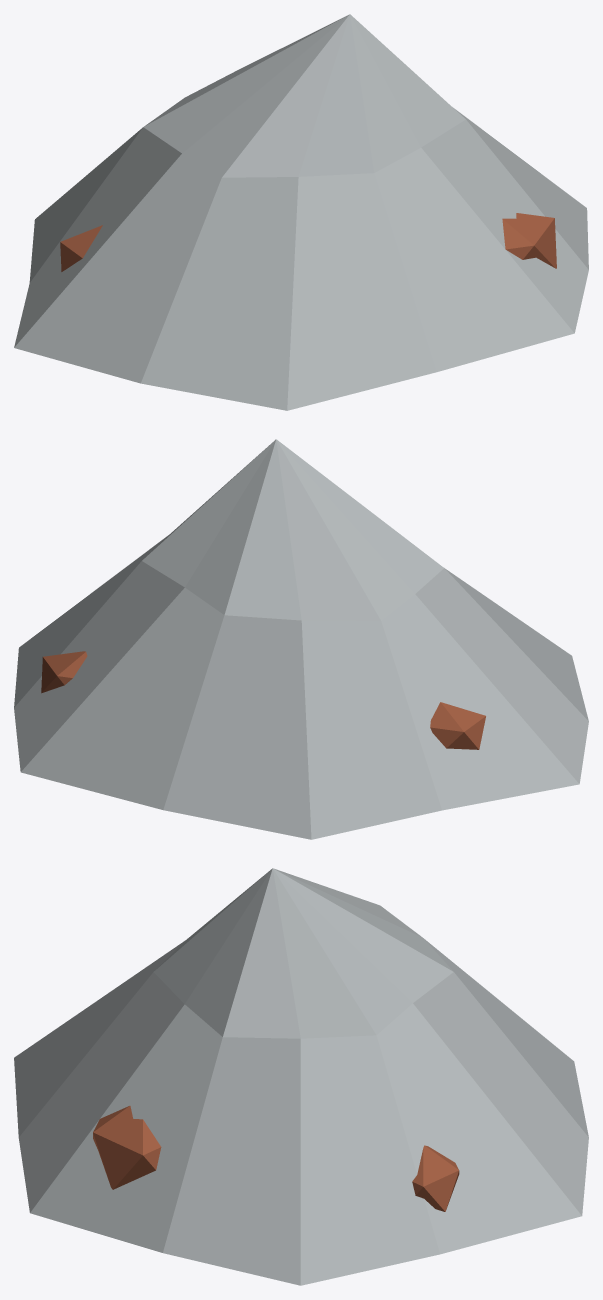
Rendered from spoil-heap.glb.
3 views of the same model, one above another, from view 1: azimuth 30°, elevation 25°; view 2: azimuth 150°, elevation 25°; view 3: azimuth 270°, elevation 25° (orthographic). The views are drawn at different scales.
Visible parts, largest first — view 1: spoil-heap-body, spoil-rock-02, spoil-rock-01; view 2: spoil-heap-body, spoil-rock-01, spoil-rock-03; view 3: spoil-heap-body, spoil-rock-02, spoil-rock-03.
Boxes of the visible parts, bbox=[...] form: spoil-heap-body: bbox=[14, 14, 588, 410]; spoil-rock-02: bbox=[502, 213, 556, 268]; spoil-rock-01: bbox=[60, 225, 102, 271]; spoil-heap-body: bbox=[14, 439, 588, 839]; spoil-rock-01: bbox=[430, 702, 485, 749]; spoil-rock-03: bbox=[41, 651, 87, 693]; spoil-heap-body: bbox=[14, 868, 588, 1285]; spoil-rock-02: bbox=[93, 1106, 161, 1189]; spoil-rock-03: bbox=[412, 1145, 459, 1211].
Size of the model in its own units: 4.08 by 1.8 by 3.28.
